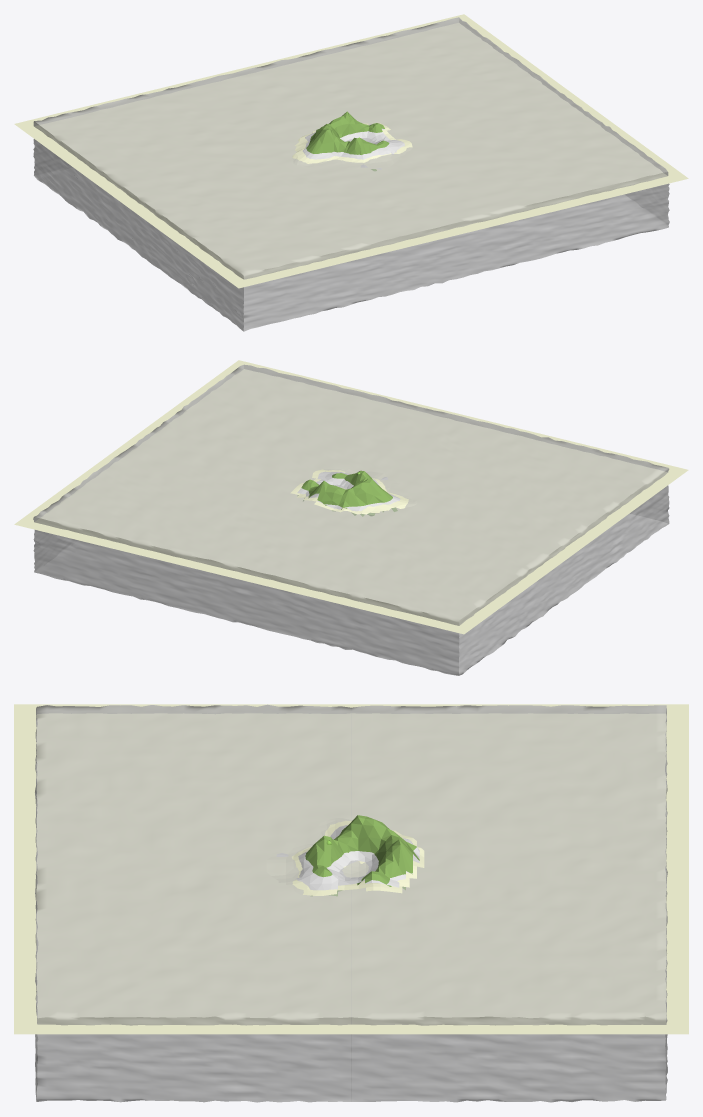
The picture shows the model from 3 angles, top to bottom: view 1: azimuth 30°, elevation 25°; view 2: azimuth 150°, elevation 25°; view 3: azimuth 270°, elevation 25°; orthographic projection. The views are drawn at different scales.
Parts seen in each view (by area): view 1: 立方体, 平面.1 (×2), 平面 (×2); view 2: 立方体, 平面.1 (×2), 平面 (×2); view 3: 立方体, 平面.1 (×2), 平面 (×2).
Boxes of the visible parts, box(x1,y1,x2,y2) form: 立方体: box(33, 17, 669, 331); 平面.1 (×2): box(14, 14, 688, 288); 平面 (×2): box(292, 122, 412, 169); 立方体: box(33, 364, 669, 675); 平面.1 (×2): box(14, 360, 688, 634); 平面 (×2): box(290, 469, 416, 514); 立方体: box(35, 704, 667, 1102); 平面.1 (×2): box(14, 704, 688, 1034); 平面 (×2): box(267, 818, 424, 895).
Size of the model in its own units: 2671 by 440 by 2310.
